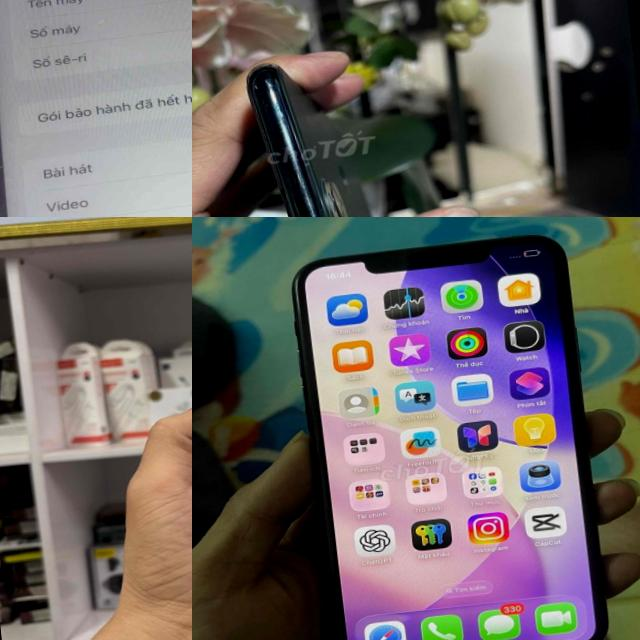gen_11: (292, 234, 606, 640), (229, 36, 402, 217)
gen_x_xs: (0, 0, 192, 217)
scratch: (0, 0, 188, 48), (0, 154, 29, 189), (0, 193, 30, 217)
